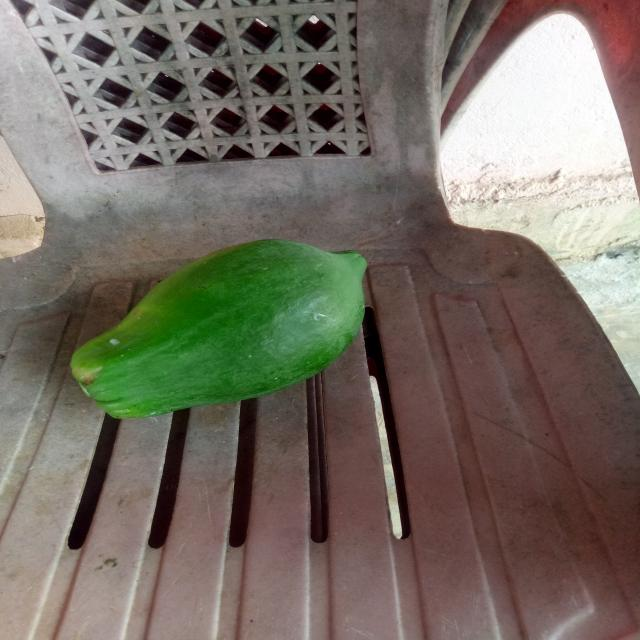Pepaya unrippen: (53, 235, 374, 428)
